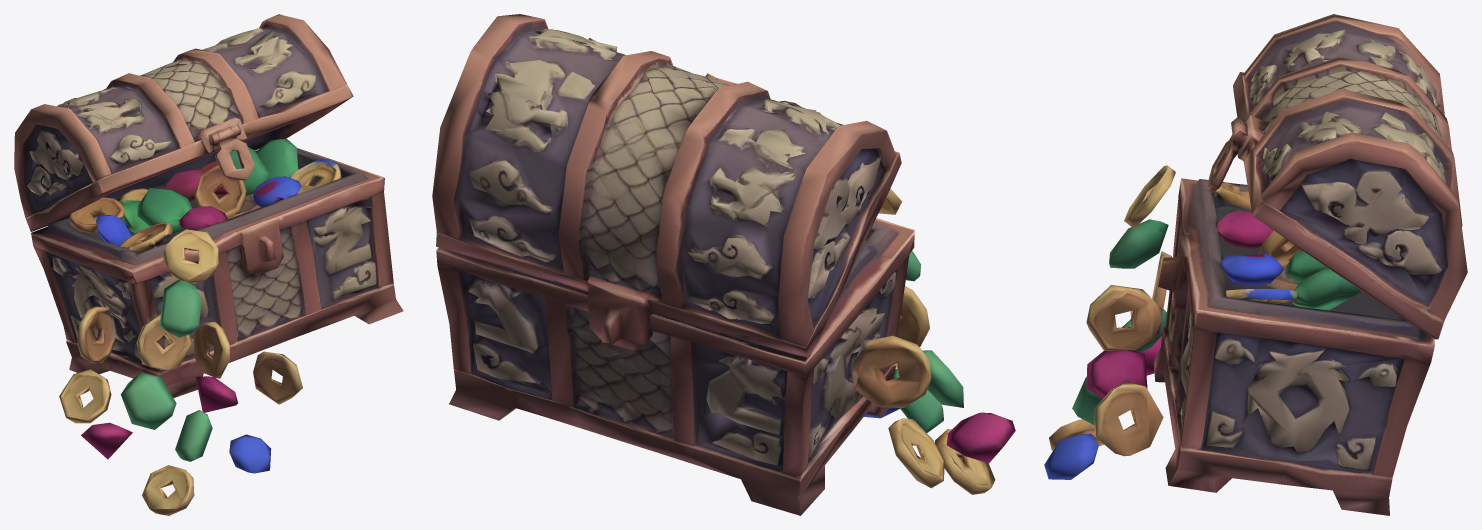
The model's file is tg_piancai.glb.
3 renders of one model, left to right at view 1: azimuth 30°, elevation 25°; view 2: azimuth 150°, elevation 25°; view 3: azimuth 270°, elevation 25°, orthographic. The views are drawn at different scales.
Visible parts, largest first — view 1: tripo_node_8dc468a0-0a2e-45a7-9499-a5226c45a5d3; view 2: tripo_node_8dc468a0-0a2e-45a7-9499-a5226c45a5d3; view 3: tripo_node_8dc468a0-0a2e-45a7-9499-a5226c45a5d3.
Boxes of the visible parts, x1=… form: tripo_node_8dc468a0-0a2e-45a7-9499-a5226c45a5d3: x1=14, y1=14, x2=403, y2=515; tripo_node_8dc468a0-0a2e-45a7-9499-a5226c45a5d3: x1=432, y1=14, x2=1015, y2=515; tripo_node_8dc468a0-0a2e-45a7-9499-a5226c45a5d3: x1=1044, y1=14, x2=1467, y2=515.
Bounding box in the file's own units: 0.9284 × 0.9781 × 0.795.
Materials: 1 (1 with a texture image).
